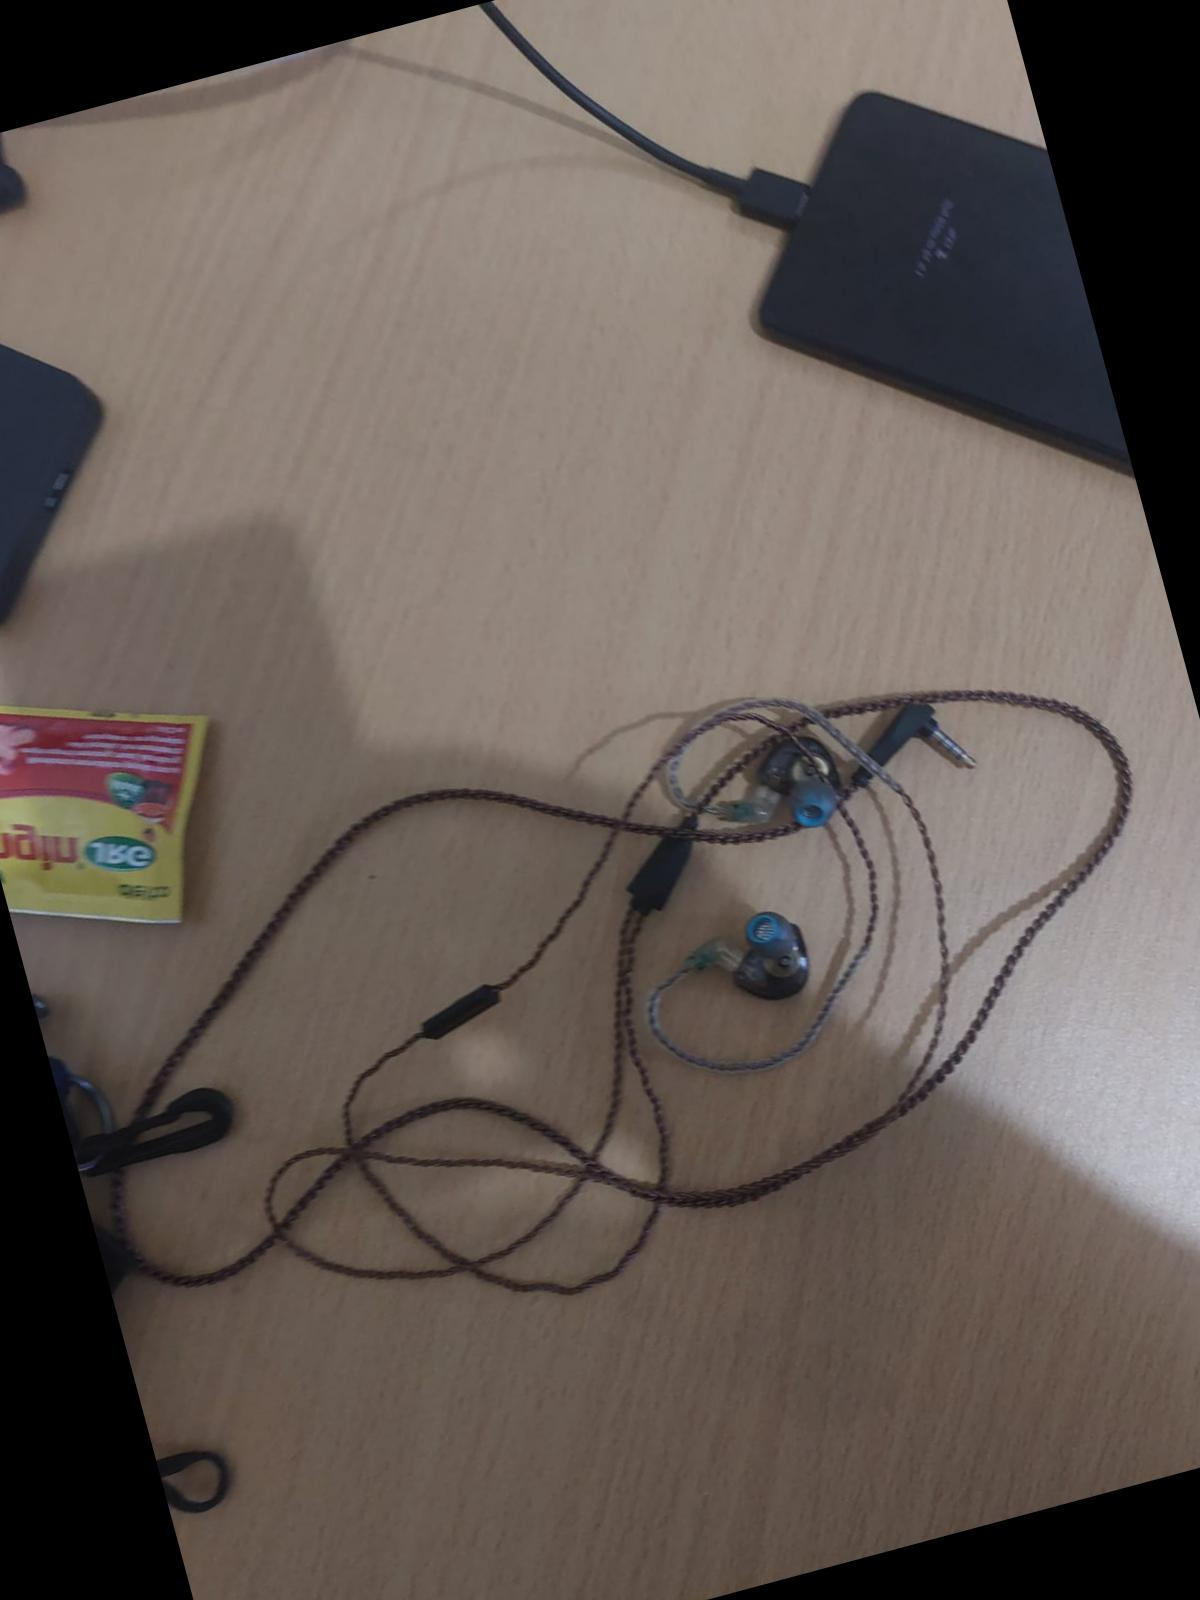Earphone: (697, 722, 866, 869), (682, 888, 846, 1031)
